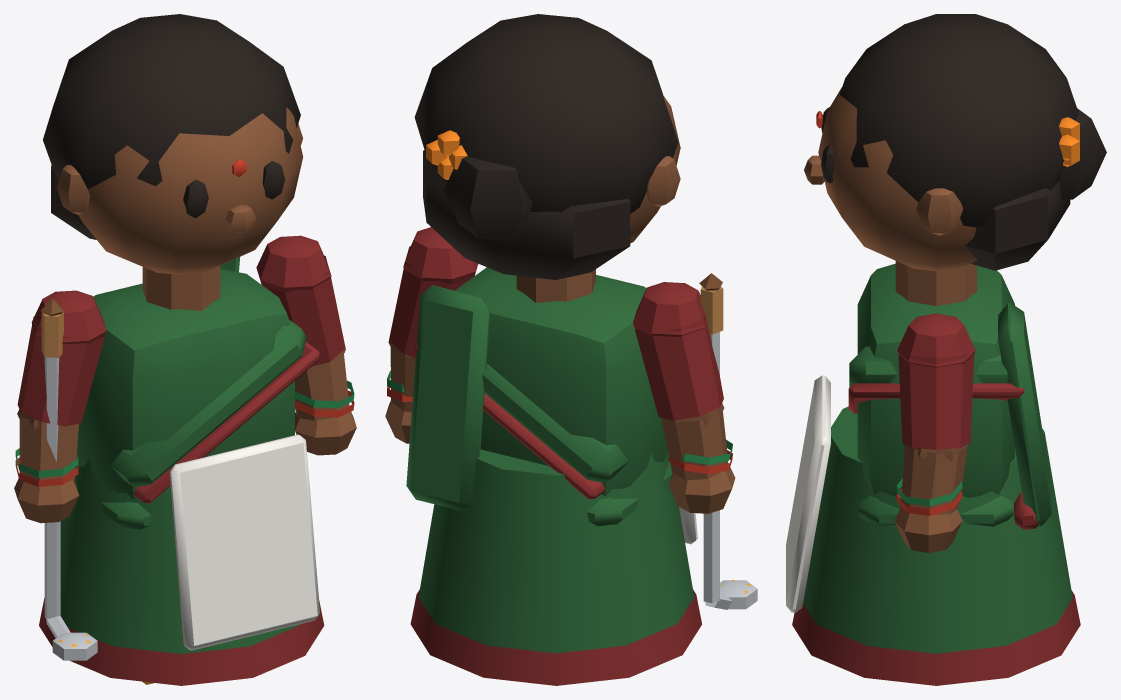
The model's file is dal_wala.glb.
3 renders of one model, left to right at view 1: azimuth 30°, elevation 25°; view 2: azimuth 150°, elevation 25°; view 3: azimuth 270°, elevation 25°, orthographic. The views are drawn at different scales.
Parts seen in each view (by area): view 1: body, head, arm_r, arm_l; view 2: body, head, arm_r, arm_l; view 3: body, head, arm_l.
Part boxes in pixels (box(x1,y1,x2,y2)): body: box(39, 257, 324, 685); head: box(43, 14, 302, 274); arm_r: box(14, 290, 106, 660); arm_l: box(256, 235, 356, 455); body: box(406, 267, 701, 685); head: box(414, 14, 680, 279); arm_r: box(633, 273, 757, 609); arm_l: box(385, 227, 478, 443); body: box(786, 261, 1080, 685); head: box(804, 14, 1106, 271); arm_l: box(894, 313, 975, 552).
Size of the model in its own units: 0.5801 by 1.01 by 0.4746.
1 material, 1 textured.
